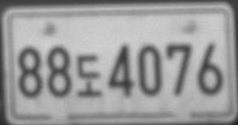0: (137, 44, 162, 95)
4: (107, 44, 135, 97)
6: (196, 43, 223, 96)
7: (165, 44, 191, 94)
8: (46, 45, 72, 98), (17, 46, 43, 98)
도: (76, 53, 103, 97)
